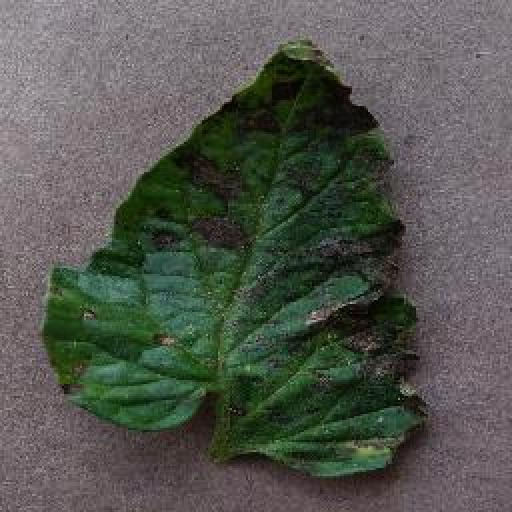disease_tomato: (38, 40, 428, 482)
